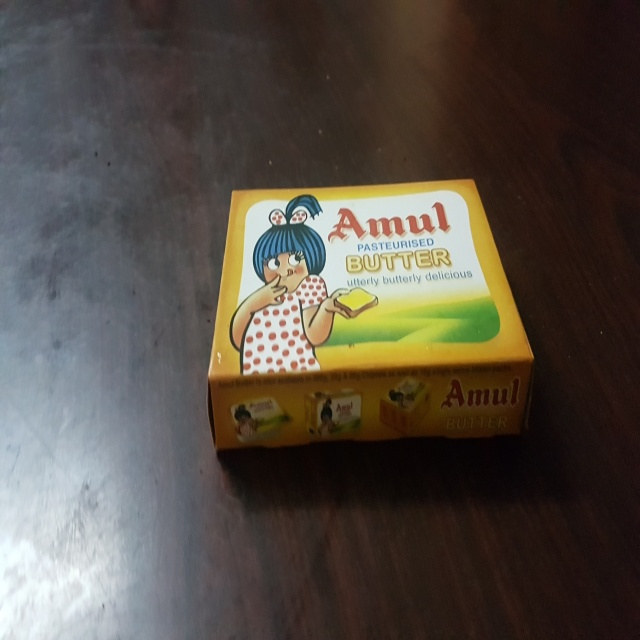butter: (207, 176, 538, 447)
